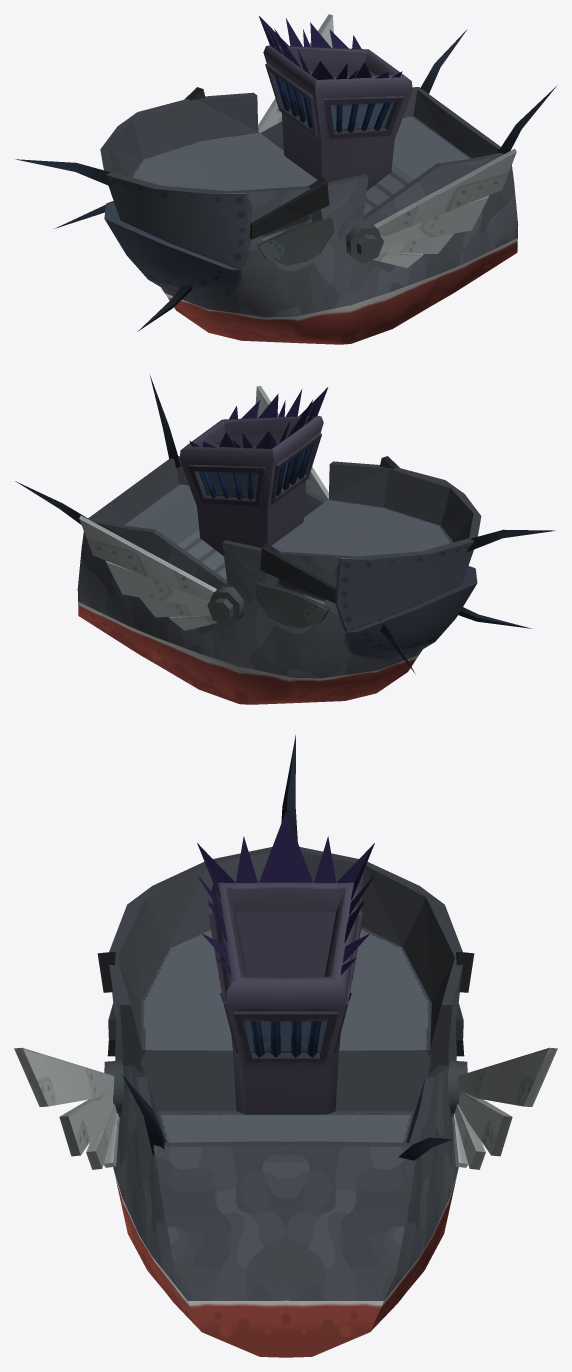
File: Coque Shield.FBX
3 views of the same model, one above another, from view 1: azimuth 30°, elevation 25°; view 2: azimuth 150°, elevation 25°; view 3: azimuth 270°, elevation 25° (orthographic). The views are drawn at different scales.
Visible parts, largest first — view 1: Box012; view 2: Box012; view 3: Box012.
Part boxes in pixels (x1,y1,x2,y2): Box012: (15, 14, 556, 344); Box012: (15, 374, 555, 704); Box012: (14, 735, 557, 1357).
Size of the model in its own units: 577 by 335 by 370.
